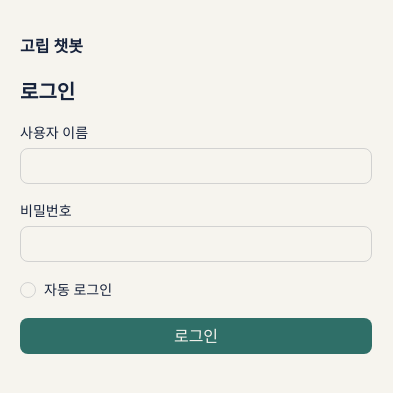
Test: LoginPage › shows one generic error when credentials are rejected
Expected: the heading "로그인" is shown, [20,78,75,105]
Step 1. Type "account-user" into the field labelled "사용자 이름" → (196, 166), box [20,148,372,184]
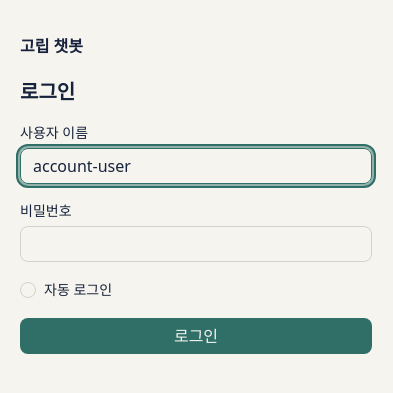
Step 2. Type "account-password" into the password field labelled "비밀번호" → (196, 244), box [20,226,372,262]
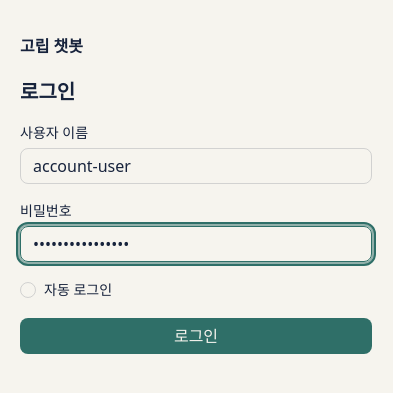
Step 3. Click the button "로그인" → (196, 336), box [20,318,372,354]
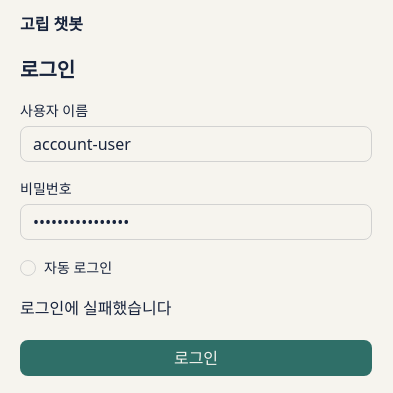
Expected: the message reads "로그인에 실패했습니다", [20,297,171,319]
Expected: the number of messages is 1, [20,297,171,319]
